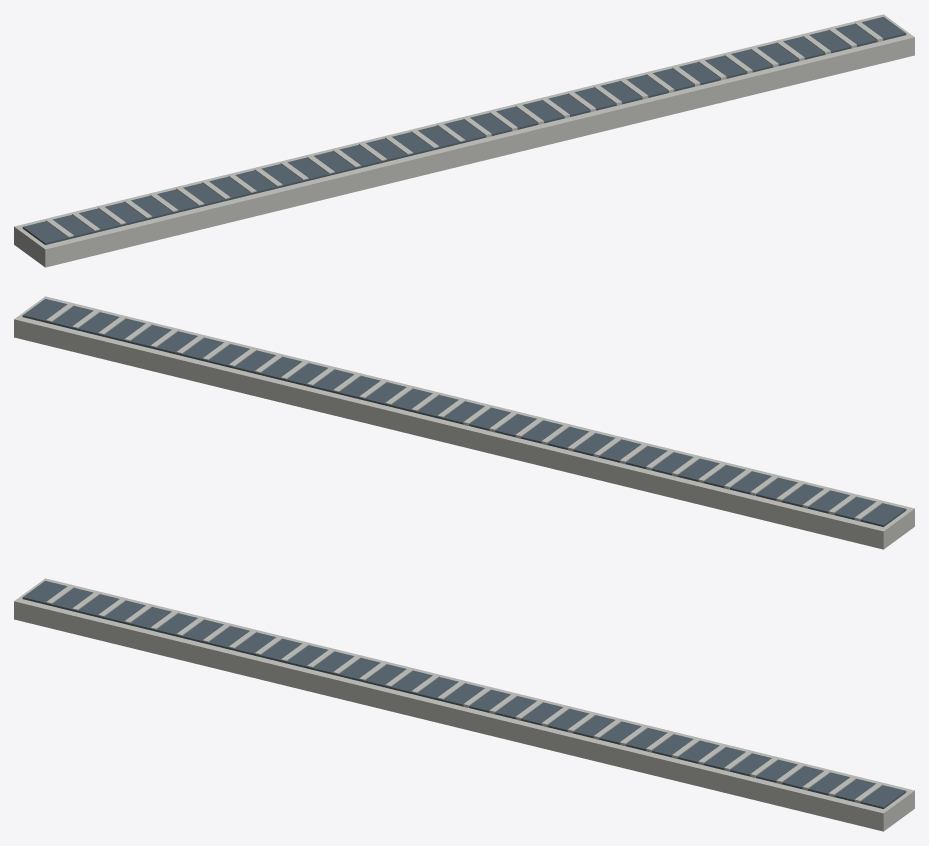
The model's file is drain-channel-eb5195cb.glb.
3 renders of one model, top to bottom at view 1: azimuth 30°, elevation 25°; view 2: azimuth 150°, elevation 25°; view 3: azimuth 330°, elevation 25°, orthographic.
Parts seen in each view (by area): view 1: drain-channel; view 2: drain-channel; view 3: drain-channel.
Boxes of the visible parts, <box> form: drain-channel: <box>14,14,914,267</box>; drain-channel: <box>14,296,914,549</box>; drain-channel: <box>14,578,914,831</box>.
Bounding box in the file's own units: 4 × 0.0918 × 0.25.
